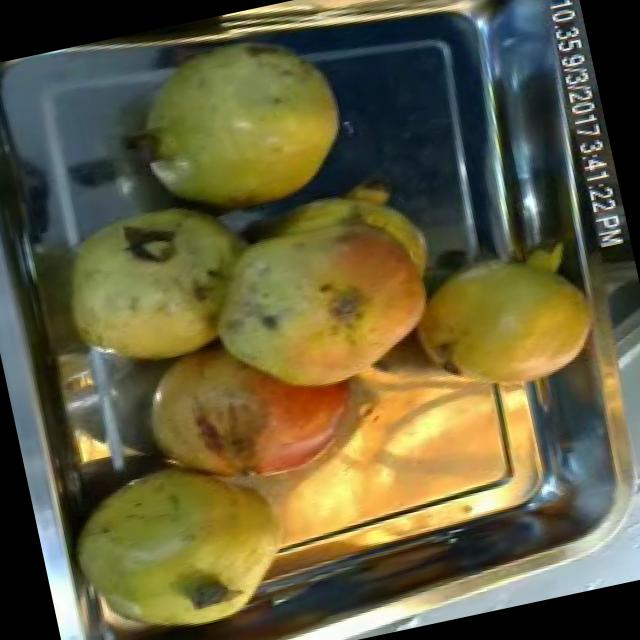fruit: (167, 177, 472, 436), (109, 303, 390, 535), (106, 16, 376, 247), (34, 171, 279, 397), (384, 225, 616, 422)
